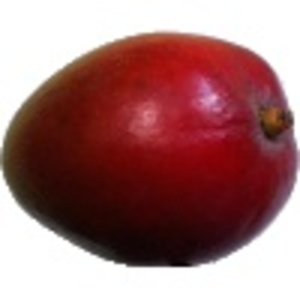manga: (1, 29, 300, 267)
